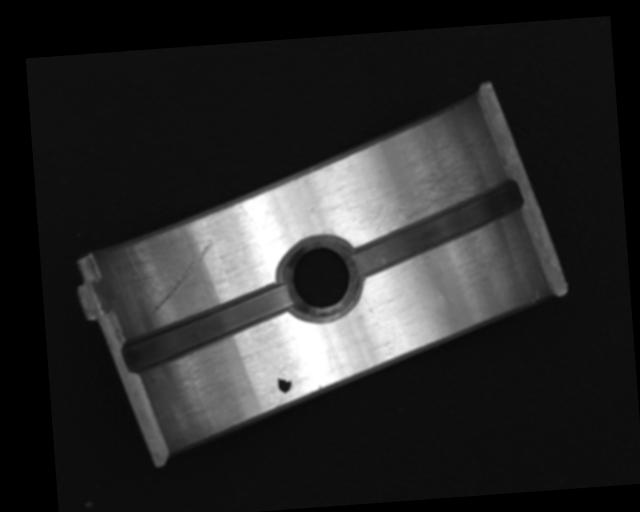blot: (276, 371, 292, 394)
gap: (347, 178, 525, 279), (117, 279, 294, 373)
hole: (278, 233, 362, 326)
nick: (145, 238, 217, 314)
scratch: (350, 137, 500, 236)
